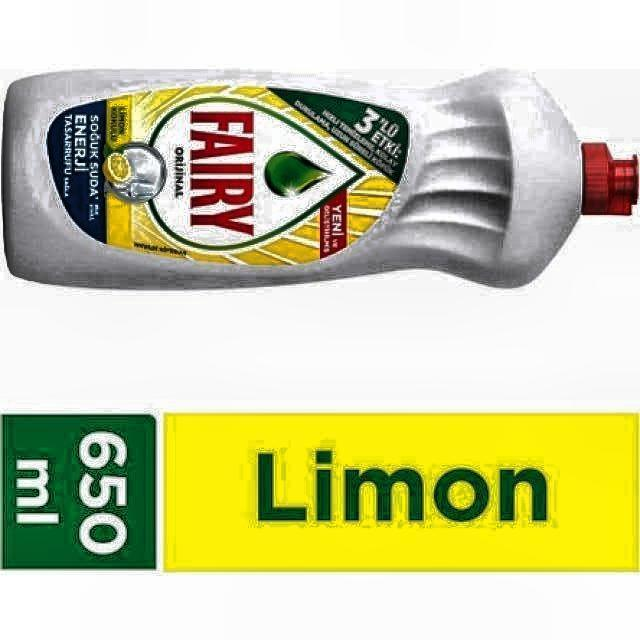plastic: (4, 71, 638, 288)
